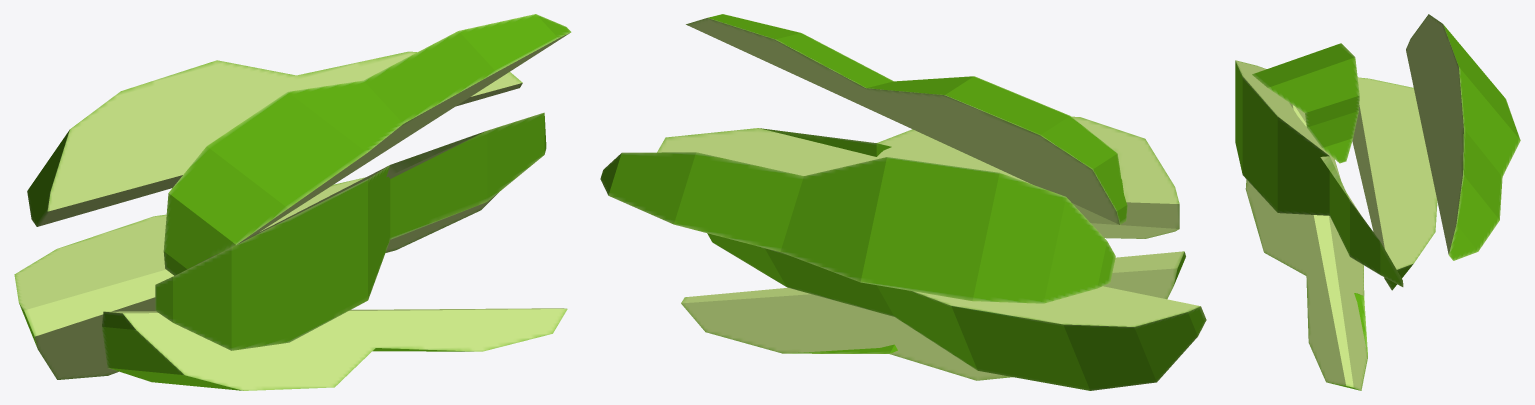
Rendered from cut_pear.fbx.
The picture shows the model from 3 angles, left to right: view 1: azimuth 30°, elevation 25°; view 2: azimuth 150°, elevation 25°; view 3: azimuth 270°, elevation 25°; orthographic projection. The views are drawn at different scales.
Parts seen in each view (by area): view 1: Cut_Pear; view 2: Cut_Pear; view 3: Cut_Pear.
Part boxes in pixels (bbox=[...]): Cut_Pear: bbox=[14, 14, 571, 390]; Cut_Pear: bbox=[600, 14, 1206, 390]; Cut_Pear: bbox=[1235, 14, 1520, 390].
Bounding box in the file's own units: 142 × 77.56 × 78.89.
